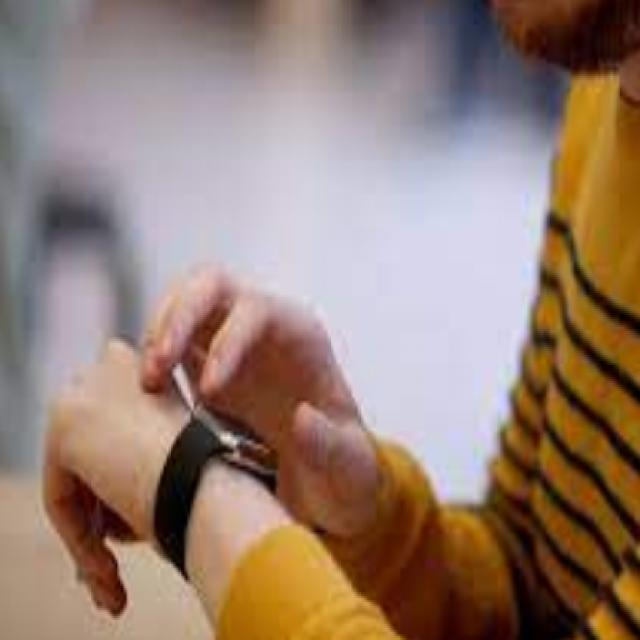Watch: (153, 406, 278, 527)
